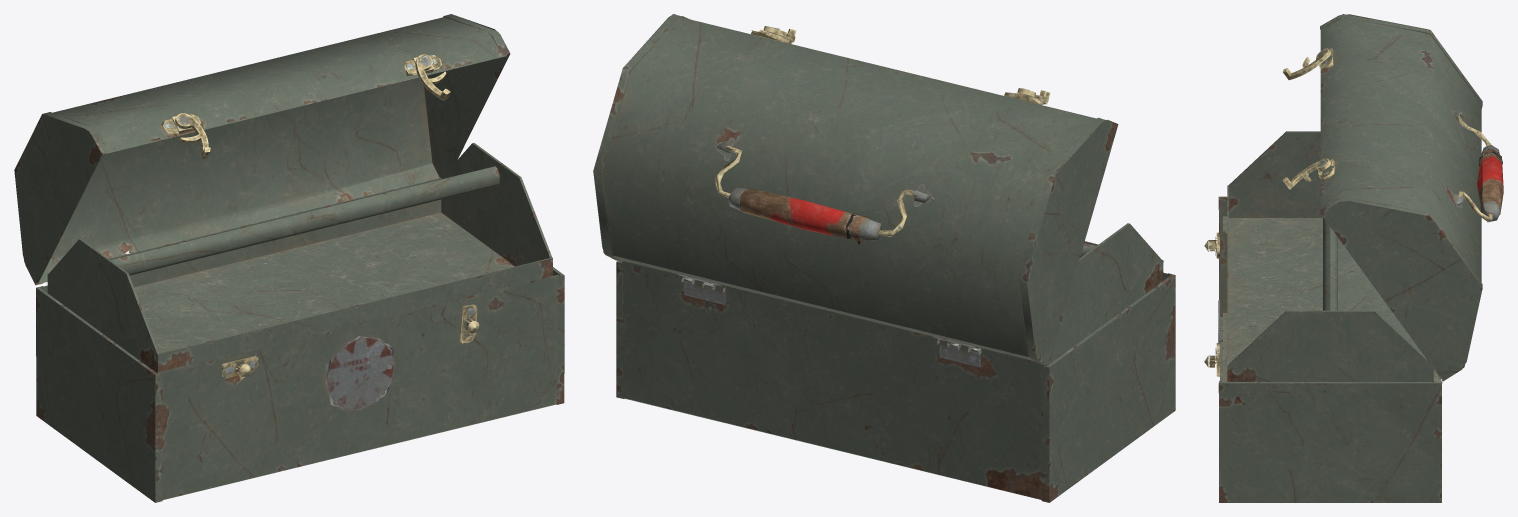
Rendered from metal_toolbox.fbx.
The picture shows the model from 3 angles, left to right: view 1: azimuth 30°, elevation 25°; view 2: azimuth 150°, elevation 25°; view 3: azimuth 270°, elevation 25°; orthographic projection. The views are drawn at different scales.
Parts seen in each view (by area): view 1: metal_toolbox_lid, metal_toolbox, metal_toolbox_tray, metal_toolbox_handle_latch_r, metal_toolbox_handle_latch_l; view 2: metal_toolbox_lid, metal_toolbox, metal_toolbox_tray, metal_toolbox_handle; view 3: metal_toolbox_lid, metal_toolbox_tray, metal_toolbox, metal_toolbox_handle, metal_toolbox_handle_latch_l, metal_toolbox_handle_latch_r.
Boxes of the visible parts, left/top/right/bottom form: metal_toolbox_lid: left=14, top=14, right=510, bottom=285; metal_toolbox: left=36, top=267, right=564, bottom=502; metal_toolbox_tray: left=47, top=143, right=552, bottom=372; metal_toolbox_handle_latch_r: left=415, top=54, right=450, bottom=100; metal_toolbox_handle_latch_l: left=175, top=113, right=210, bottom=158; metal_toolbox_lid: left=593, top=14, right=1118, bottom=365; metal_toolbox: left=616, top=260, right=1175, bottom=502; metal_toolbox_tray: left=628, top=223, right=1163, bottom=363; metal_toolbox_handle: left=715, top=146, right=917, bottom=244; metal_toolbox_lid: left=1317, top=14, right=1482, bottom=381; metal_toolbox_tray: left=1227, top=131, right=1433, bottom=381; metal_toolbox: left=1204, top=196, right=1442, bottom=502; metal_toolbox_handle: left=1458, top=114, right=1503, bottom=222; metal_toolbox_handle_latch_l: left=1283, top=48, right=1330, bottom=79; metal_toolbox_handle_latch_r: left=1282, top=158, right=1330, bottom=189.
Bounding box in the file's own units: 40 × 30.48 × 27.13.
1 material, 1 textured.
